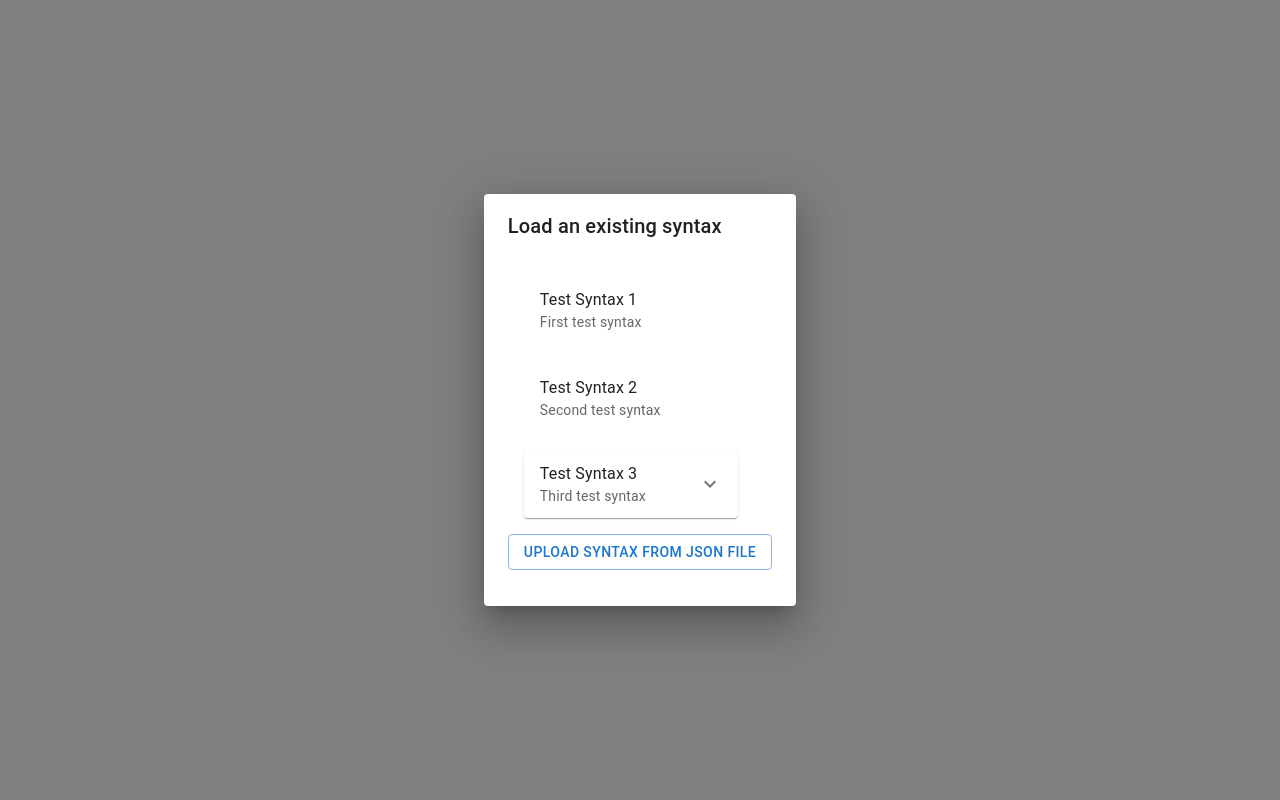
Test: <ExistingSyntaxDialog /> › displays error message when plasmids.json request fails
Click the text "Test Syntax 1": (589, 300) [540,290,637,309]
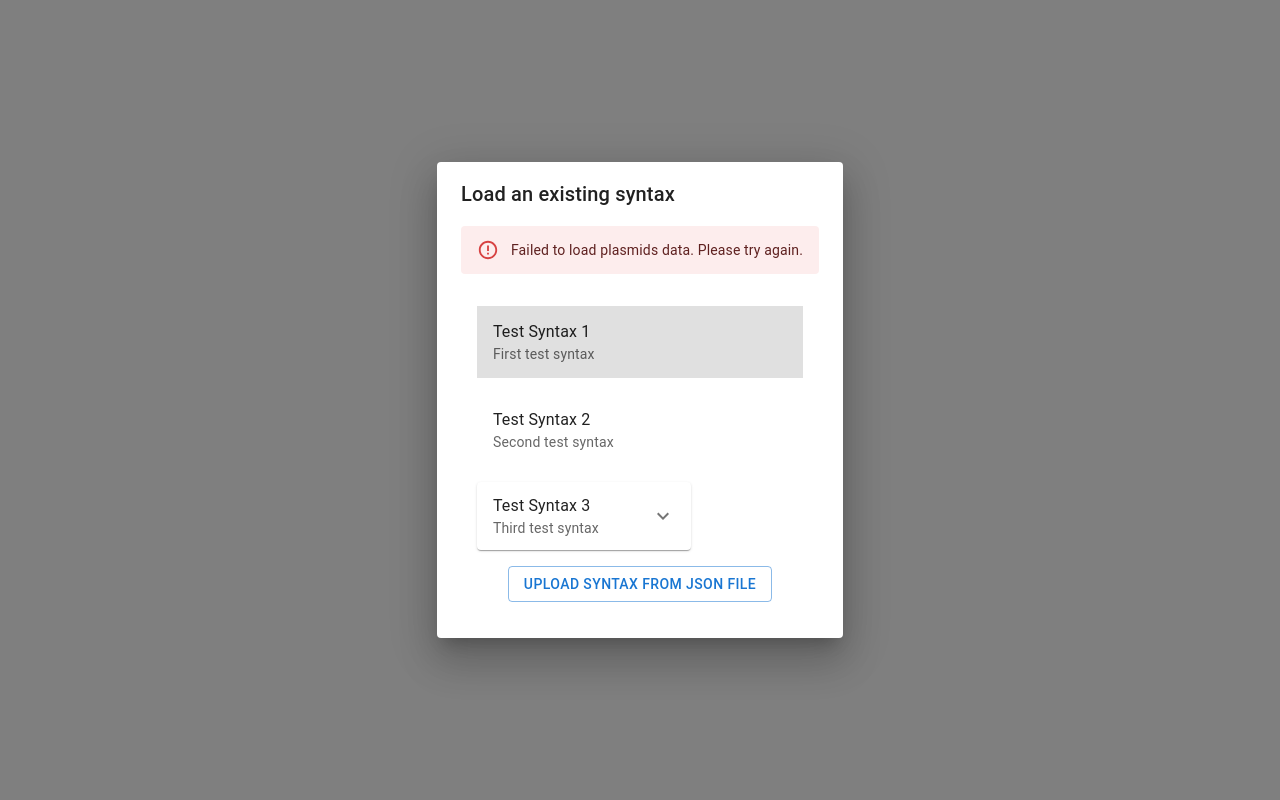
Result: the text "Failed to load plasmids data. Please try again." is shown at [511,242,803,258]
